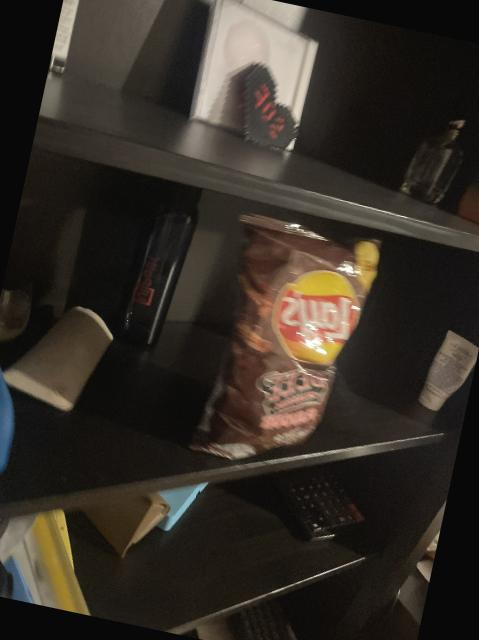Lays Beef Grilled Ribs 125g: (182, 214, 376, 478)
